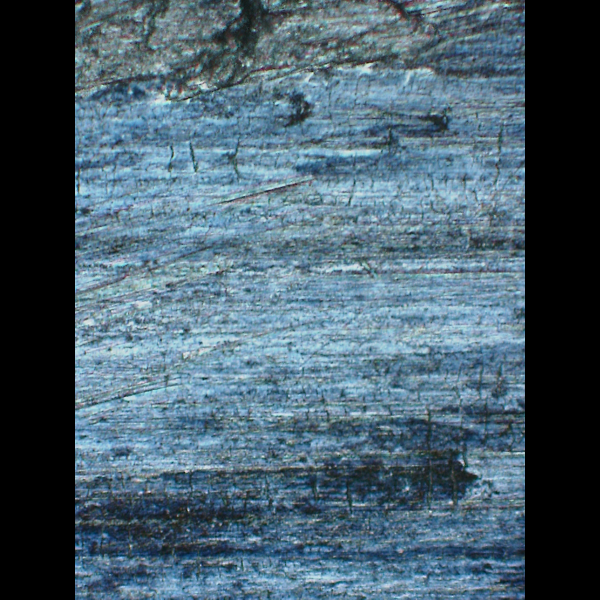d: (75, 0, 520, 95)
